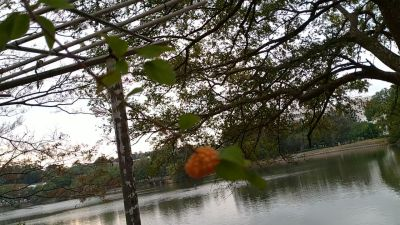eggs: (186, 143, 218, 178)
